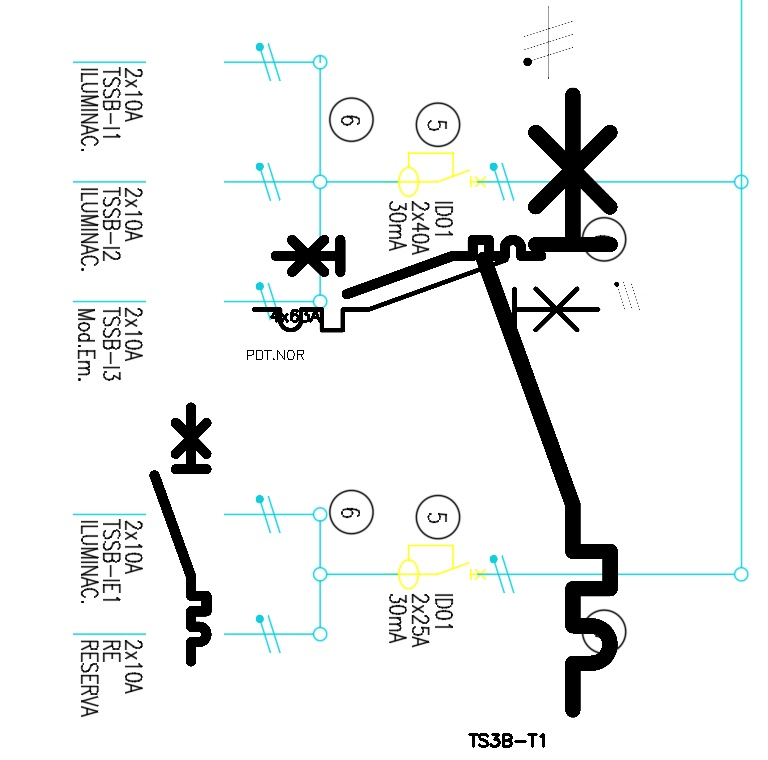interruptor_termomagnetico: (468, 79, 626, 726), (245, 251, 607, 339), (269, 233, 548, 301), (148, 401, 213, 668)
